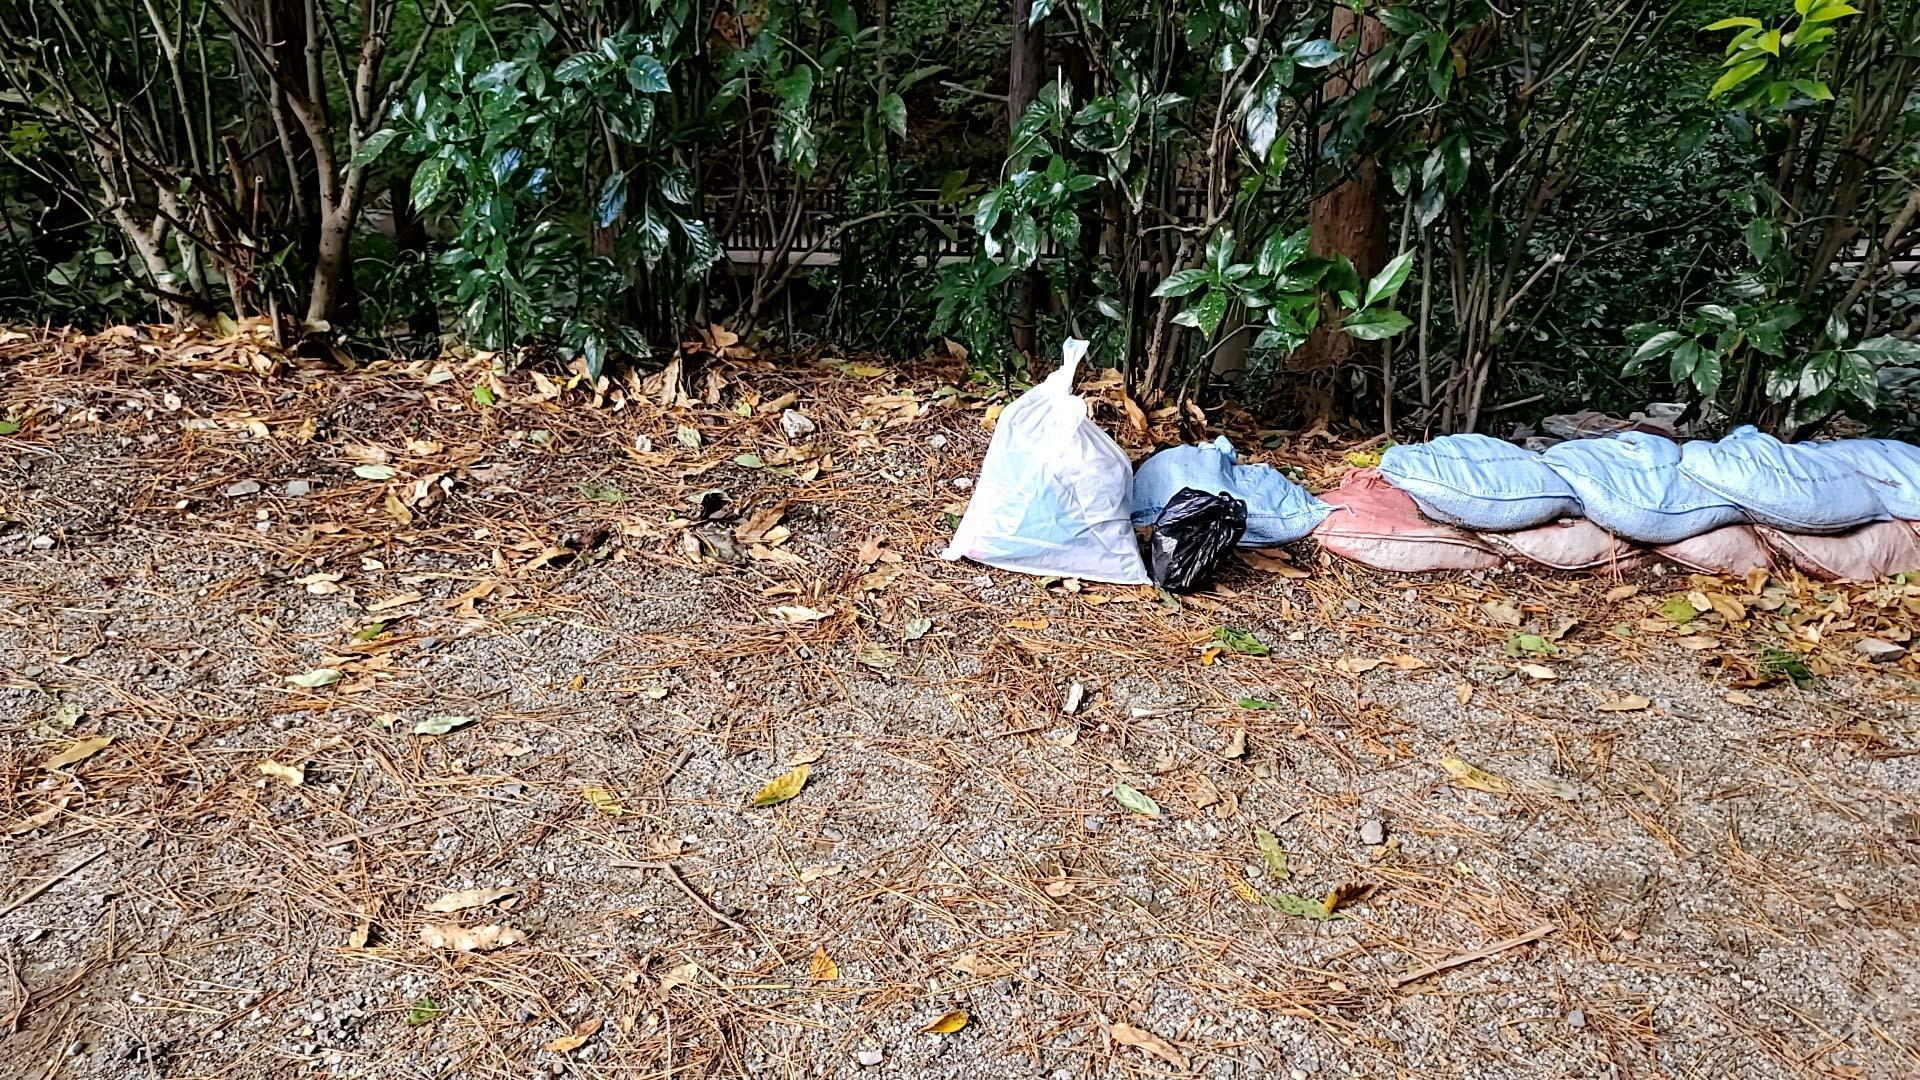black_bag: (1136, 479, 1252, 609)
white_bag: (926, 316, 1158, 603)
